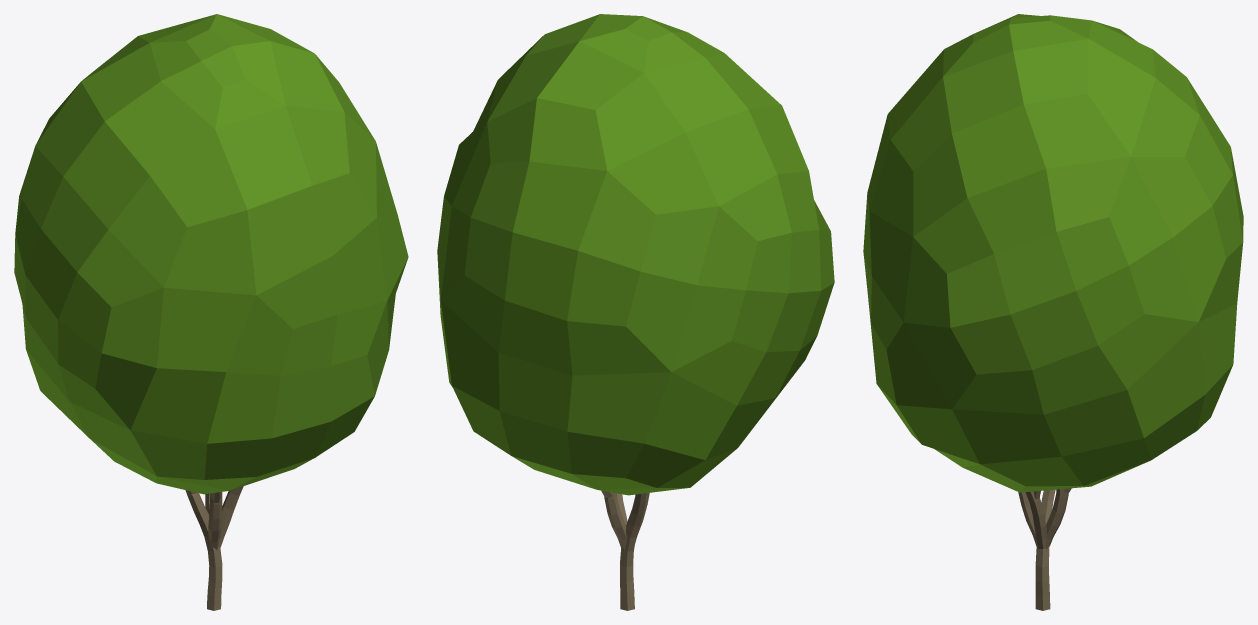
File: Ash Tree.fbx
3 renders of one model, left to right at view 1: azimuth 30°, elevation 25°; view 2: azimuth 150°, elevation 25°; view 3: azimuth 270°, elevation 25°, orthographic.
Parts seen in each view (by area): view 1: Sphere, tree; view 2: Sphere, tree; view 3: Sphere, tree.
Part boxes in pixels (x1,y1,x2,y2): Sphere: (14, 14, 408, 494); tree: (185, 486, 243, 610); Sphere: (437, 14, 834, 495); tree: (601, 490, 649, 610); Sphere: (863, 14, 1243, 492); tree: (1018, 488, 1071, 610).
Size of the model in its own units: 833 by 1366 by 803.
